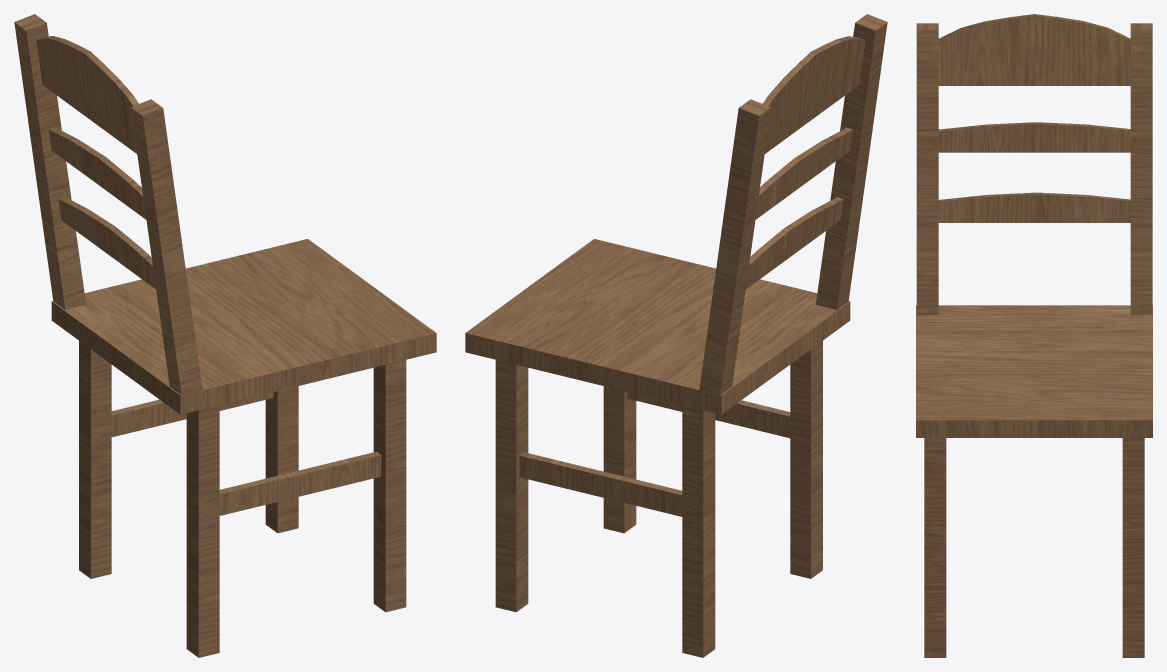
The model's file is Chair.glb.
3 views of the same model, side by side, from view 1: azimuth 30°, elevation 25°; view 2: azimuth 150°, elevation 25°; view 3: azimuth 270°, elevation 25° (orthographic). The views are drawn at different scales.
Visible parts, largest first — view 1: Chair; view 2: Chair; view 3: Chair.
Boxes of the visible parts, x1,y1,x2,y2 form: Chair: [14, 14, 436, 657]; Chair: [465, 14, 887, 657]; Chair: [916, 14, 1152, 657].
Size of the model in its own units: 14.15 by 26.42 by 10.75.
1 material, 1 textured.
